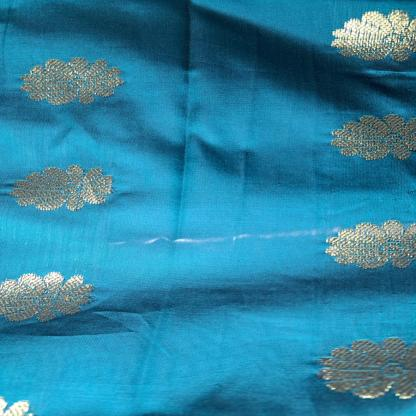spot: (130, 230, 335, 244)
